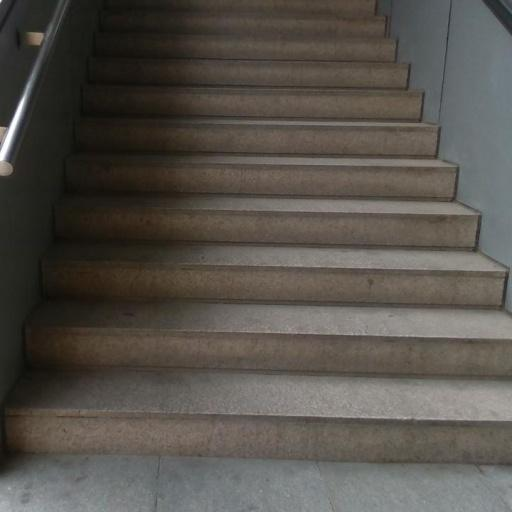stairs: (5, 0, 511, 462)
